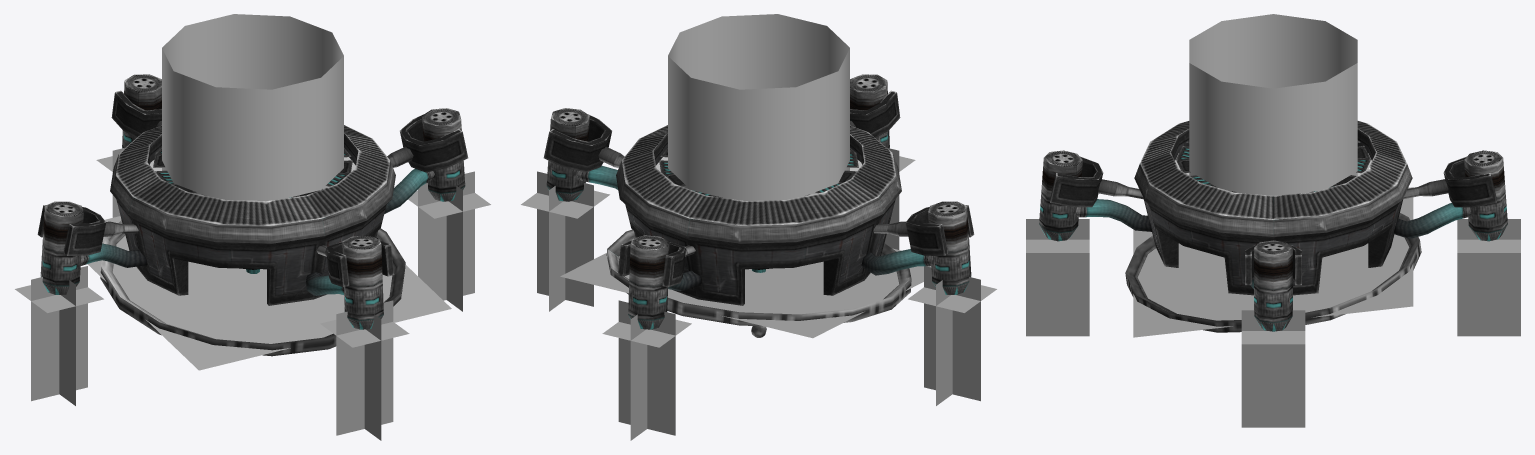
The model's file is FlyingJumpPad.fbx.
3 views of the same model, side by side, from view 1: azimuth 30°, elevation 25°; view 2: azimuth 150°, elevation 25°; view 3: azimuth 270°, elevation 25° (orthographic). The views are drawn at different scales.
Parts seen in each view (by area): view 1: F_JP_light, float_jumpPad_body, F_JP_fire, F_JP_engines, F_JP_ring_effect, F_JP_ring; view 2: F_JP_light, float_jumpPad_body, F_JP_fire, F_JP_engines, F_JP_ring_effect, F_JP_ring; view 3: F_JP_light, float_jumpPad_body, F_JP_fire, F_JP_engines, F_JP_ring_effect, F_JP_ring.
Boxes of the visible parts, left/top/right/bottom form: F_JP_light: left=150, top=14, right=355, bottom=200; float_jumpPad_body: left=110, top=125, right=395, bottom=305; F_JP_fire: left=15, top=148, right=490, bottom=440; F_JP_engines: left=37, top=74, right=468, bottom=329; F_JP_ring_effect: left=87, top=216, right=451, bottom=370; F_JP_ring: left=100, top=220, right=405, bottom=356; F_JP_light: left=656, top=14, right=861, bottom=200; float_jumpPad_body: left=616, top=125, right=901, bottom=305; F_JP_fire: left=521, top=148, right=996, bottom=440; F_JP_engines: left=543, top=74, right=974, bottom=329; F_JP_ring_effect: left=560, top=248, right=931, bottom=338; F_JP_ring: left=606, top=229, right=911, bottom=326; F_JP_light: left=1175, top=14, right=1371, bottom=195; float_jumpPad_body: left=1134, top=121, right=1412, bottom=295; F_JP_fire: left=1026, top=219, right=1520, bottom=427; F_JP_engines: left=1039, top=150, right=1507, bottom=331; F_JP_ring_effect: left=1133, top=187, right=1413, bottom=337; F_JP_ring: left=1125, top=213, right=1421, bottom=332.
Bounding box in the file's own units: 4.64 × 2.95 × 4.64.
